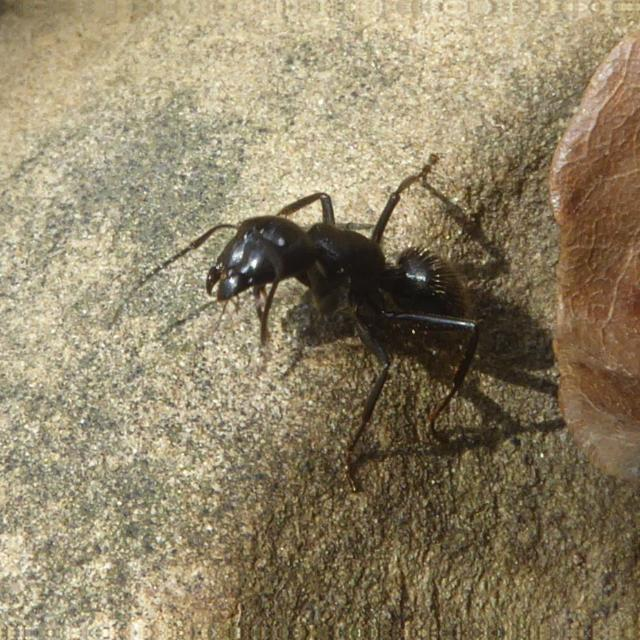Camponotus: (107, 130, 529, 424)
